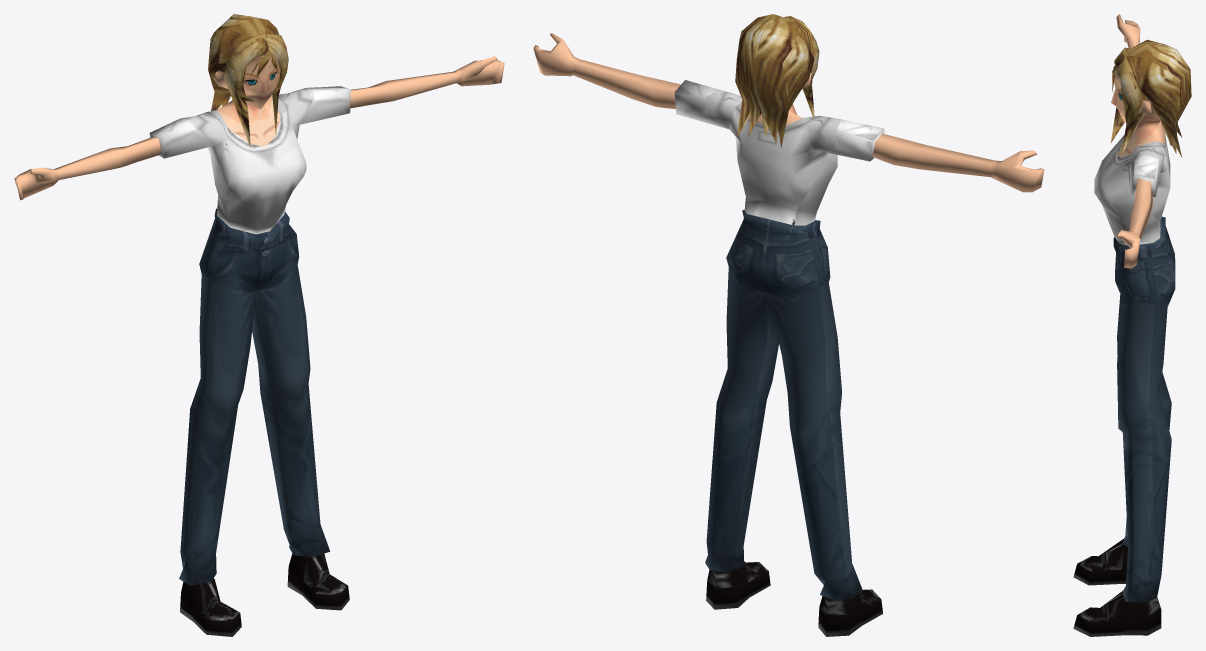
Rendered from Aya-NoJacket.obj.
The picture shows the model from 3 angles, left to right: view 1: azimuth 30°, elevation 25°; view 2: azimuth 150°, elevation 25°; view 3: azimuth 270°, elevation 25°; orthographic projection. The views are drawn at different scales.
Visible parts, largest first — view 1: Aya-NoJacket; view 2: Aya-NoJacket; view 3: Aya-NoJacket.
Boxes of the visible parts, bbox=[...] form: Aya-NoJacket: bbox=[14, 14, 504, 636]; Aya-NoJacket: bbox=[533, 14, 1044, 636]; Aya-NoJacket: bbox=[1073, 14, 1191, 636].
Size of the model in its own units: 4.37 by 4.94 by 0.9427.
19 materials, 19 textured.
